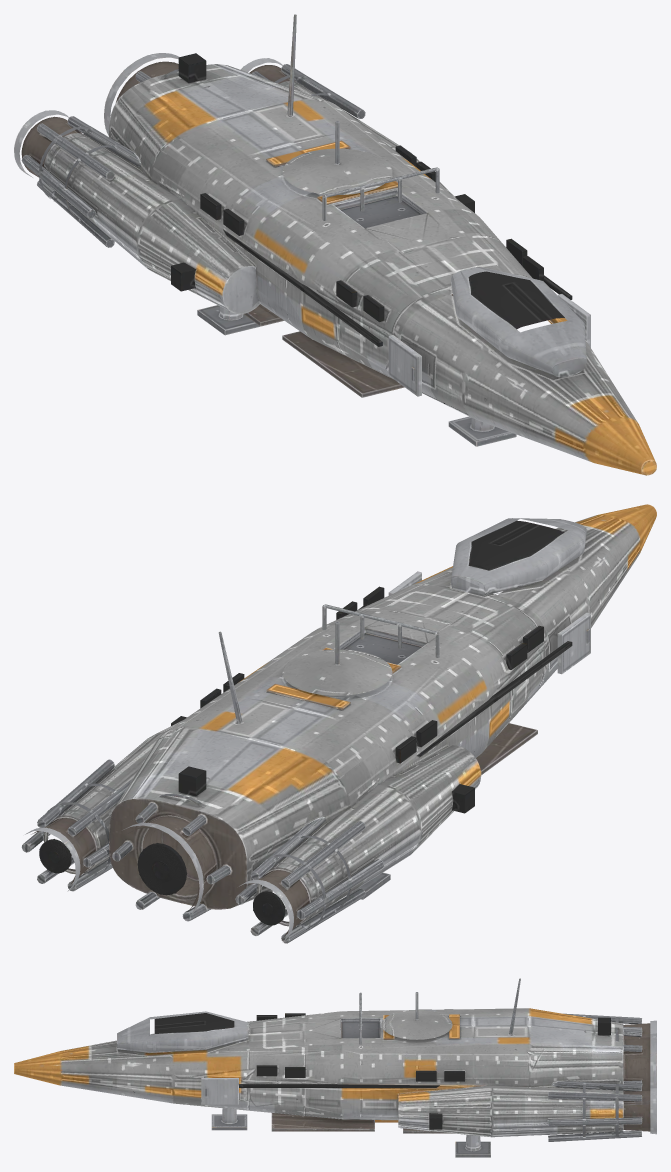
The model's file is sd_npc_courier.glb.
The picture shows the model from 3 angles, top to bottom: view 1: azimuth 30°, elevation 25°; view 2: azimuth 150°, elevation 25°; view 3: azimuth 270°, elevation 25°; orthographic projection. The views are drawn at different scales.
Visible parts, largest first — view 1: LOD0_body, LOD1_body; view 2: LOD0_body, LOD1_body; view 3: LOD0_body, LOD1_body.
Boxes of the visible parts, x1=… form: LOD0_body: x1=14, y1=14, x2=656, y2=475; LOD1_body: x1=14, y1=14, x2=654, y2=475; LOD0_body: x1=21, y1=504, x2=656, y2=943; LOD1_body: x1=22, y1=504, x2=656, y2=943; LOD0_body: x1=14, y1=978, x2=656, y2=1157; LOD1_body: x1=14, y1=978, x2=656, y2=1157.
Size of the model in its own units: 0.3446 by 0.2824 by 1.
1 material, 1 textured.
